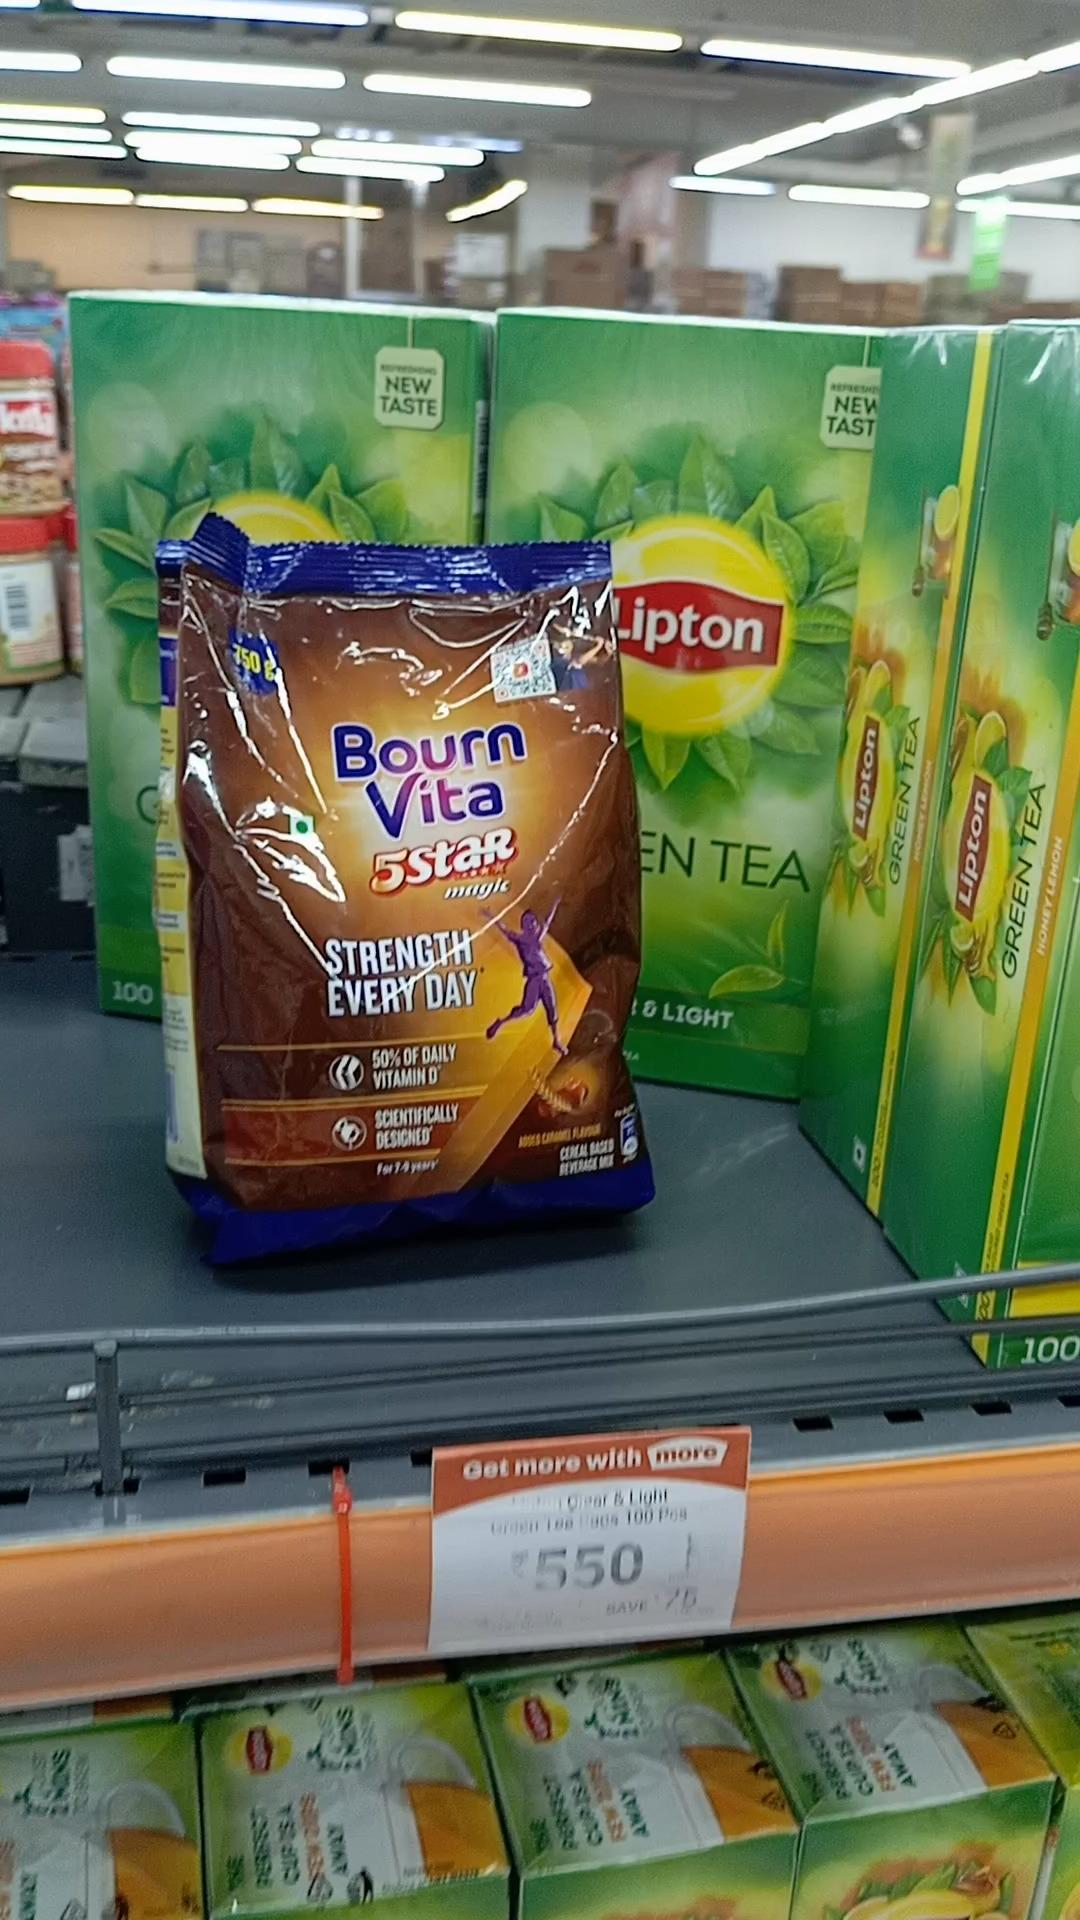BOURN_VITA_FIVE_STAR_MAGIC_750_G_POUCH: (162, 534, 657, 1230)
